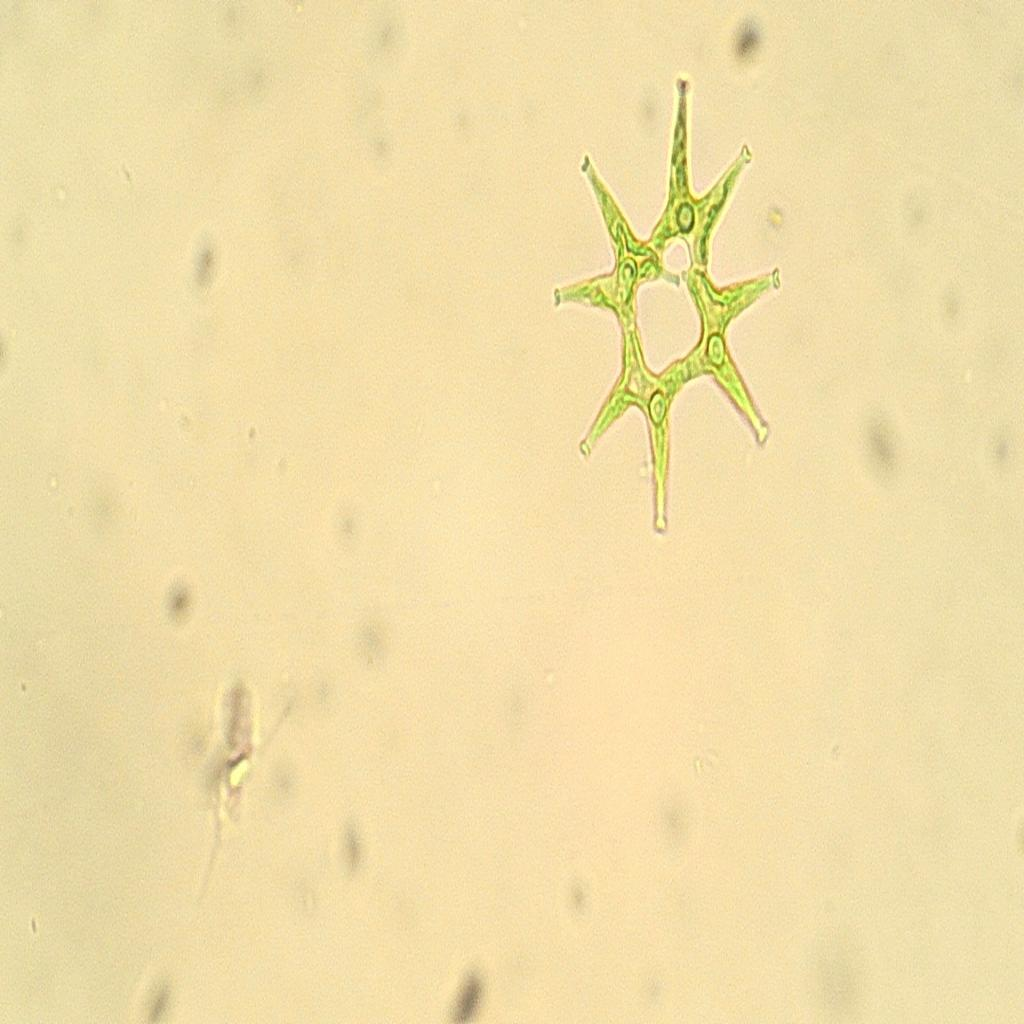Pediastrum_CF: (546, 50, 785, 572)
